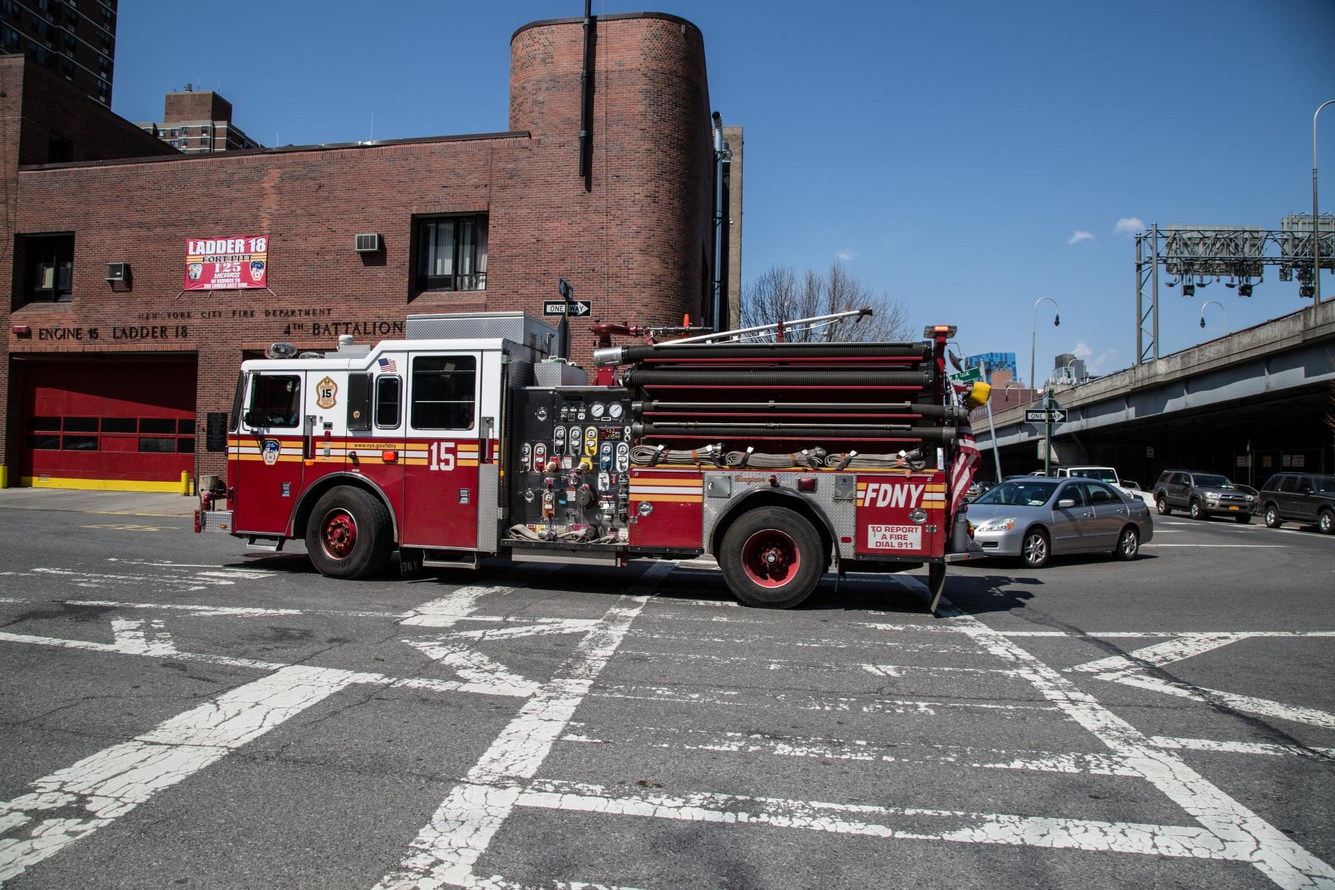Fire-engine: (193, 301, 991, 612)
